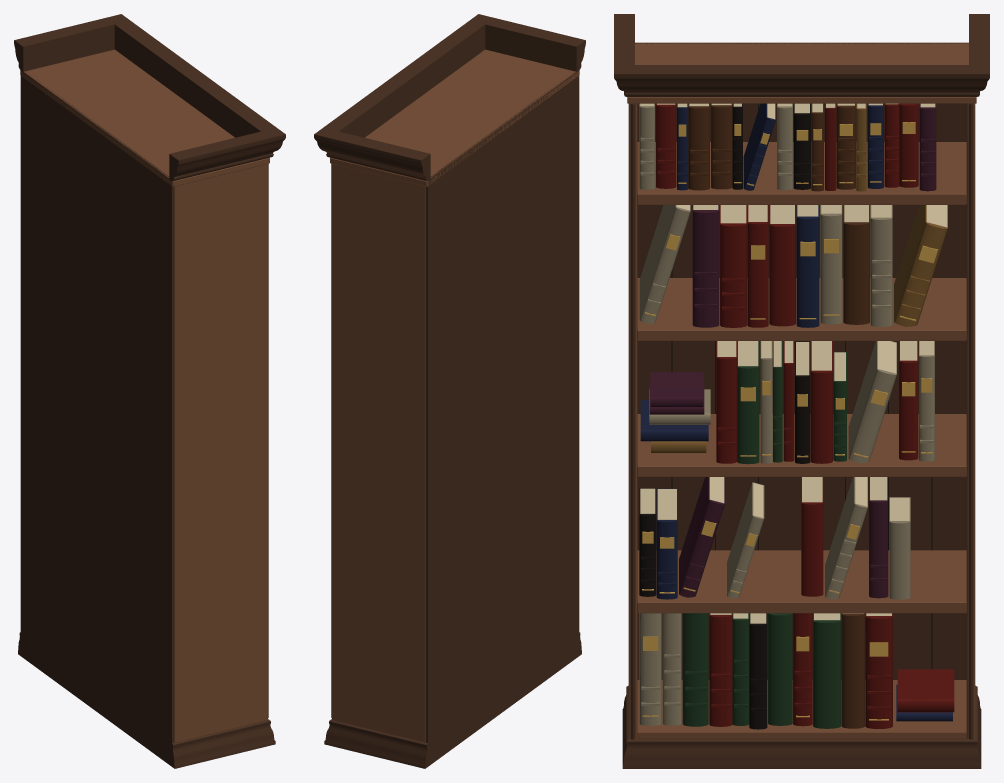
File: bookcase.glb
The picture shows the model from 3 angles, left to right: view 1: azimuth 30°, elevation 25°; view 2: azimuth 150°, elevation 25°; view 3: azimuth 270°, elevation 25°; orthographic projection. The views are drawn at different scales.
Parts seen in each view (by area): view 1: rueckwand, korpus, profile; view 2: rueckwand, korpus, profile; view 3: korpus, rueckwand, buecher0, profile, buecher6, buecher2, buchschnitt, buecher7, buecher1, buecher3, buecher4, goldpraegung (+1 smaller).
Part boxes in pixels (bbox=[...]): rueckwand: bbox=[20, 70, 174, 763]; korpus: bbox=[20, 49, 269, 742]; profile: bbox=[14, 14, 285, 768]; rueckwand: bbox=[425, 70, 579, 763]; korpus: bbox=[330, 49, 579, 742]; profile: bbox=[314, 14, 585, 768]; korpus: bbox=[627, 43, 976, 739]; rueckwand: bbox=[635, 42, 968, 679]; buecher0: bbox=[656, 103, 954, 728]; profile: bbox=[614, 14, 989, 768]; buecher6: bbox=[639, 103, 934, 725]; buecher2: bbox=[682, 341, 846, 728]; buchschnitt: bbox=[640, 103, 947, 623]; buecher7: bbox=[649, 103, 936, 598]; buecher1: bbox=[688, 103, 869, 728]; buecher3: bbox=[640, 103, 952, 721]; buecher4: bbox=[639, 103, 810, 729]; goldpraegung: bbox=[642, 122, 937, 720].
Bounding box in the file's own units: 0.368 × 2 × 0.976.
